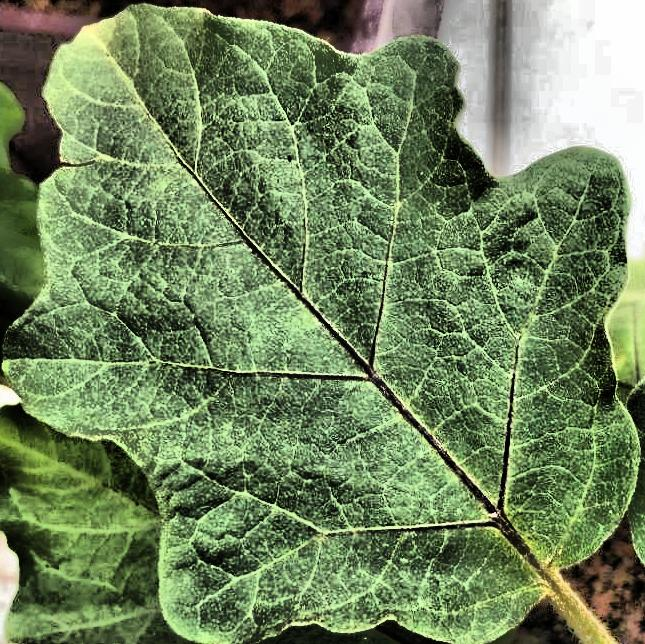HEALTHY: (1, 1, 645, 644)
